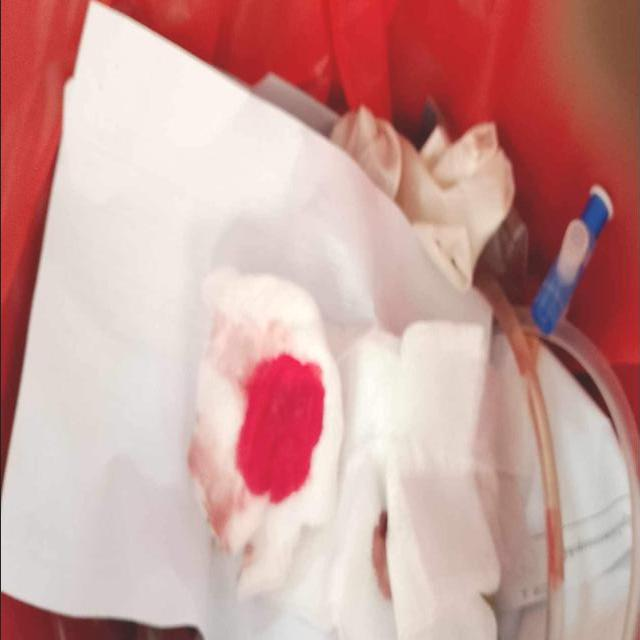General: (3, 2, 637, 637), (184, 100, 525, 634)
Infectious: (187, 267, 346, 599)
Sharps: (516, 182, 616, 339)
